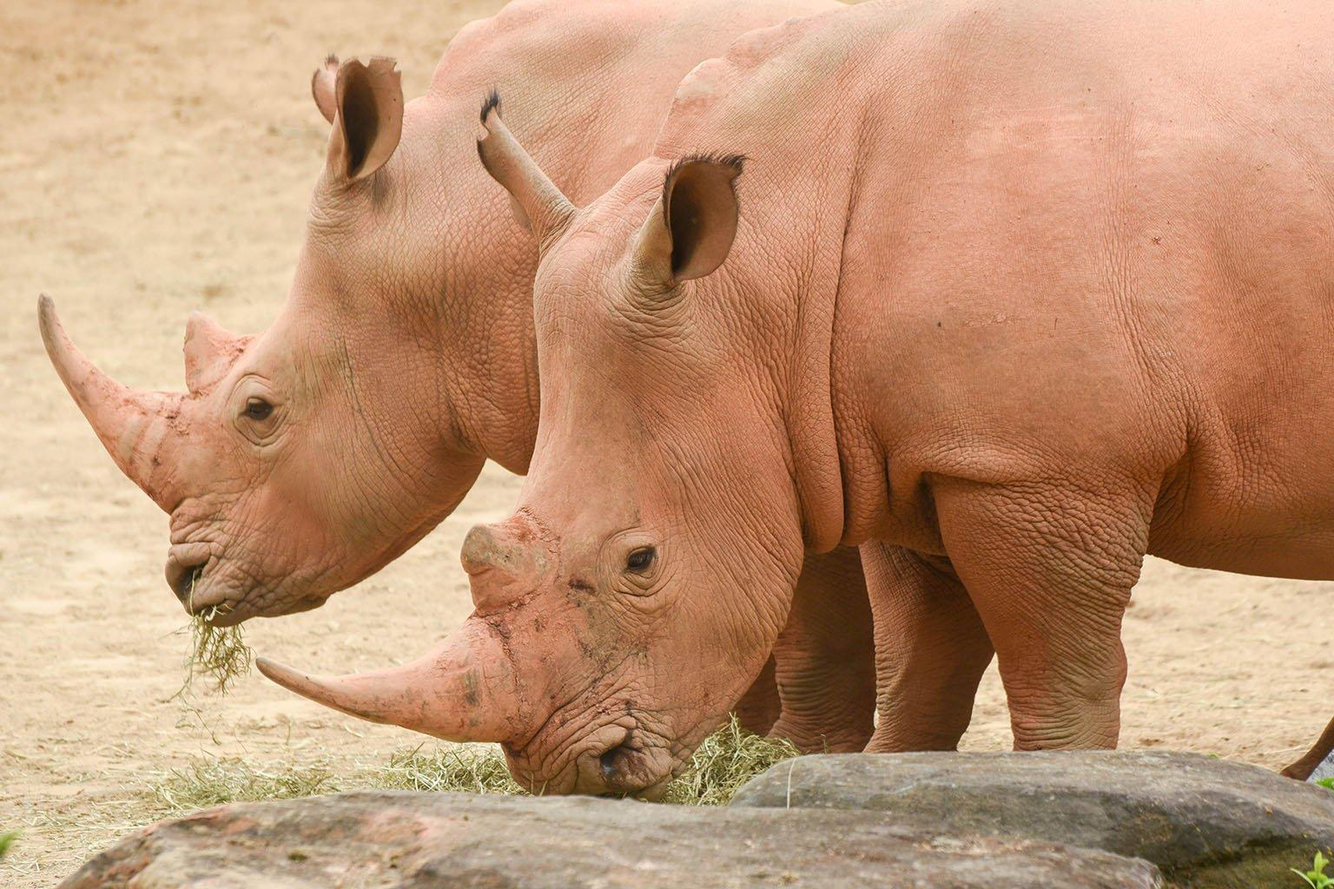Rhinoceroses: (258, 2, 1333, 796), (39, 0, 850, 625)
